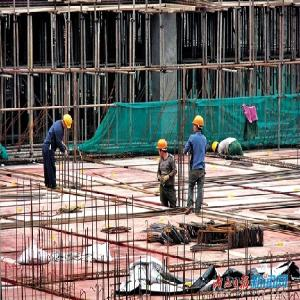yellow: (157, 139, 171, 159), (193, 116, 206, 134), (61, 113, 73, 132), (212, 141, 222, 155)
